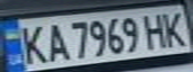6: (106, 16, 127, 55)
7: (66, 18, 90, 60)
9: (121, 14, 145, 53), (87, 16, 109, 57)
A: (42, 20, 69, 63)
H: (139, 10, 172, 49)
K: (15, 21, 51, 65), (157, 8, 193, 47)
